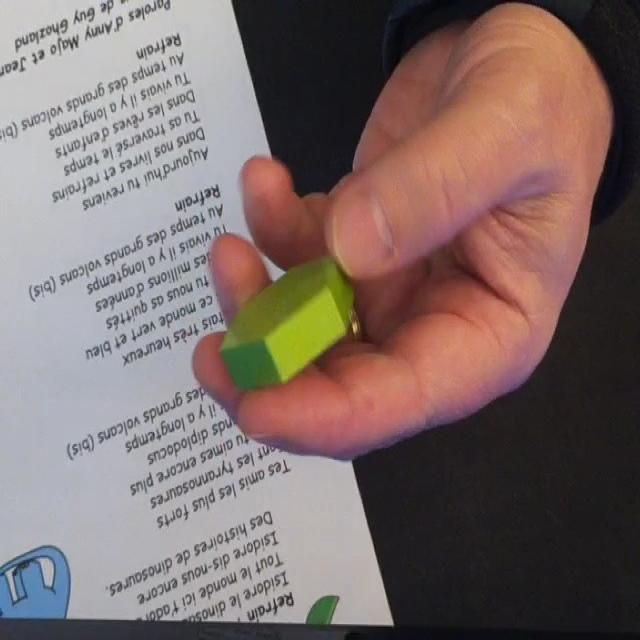hexagon: (217, 255, 356, 392)
